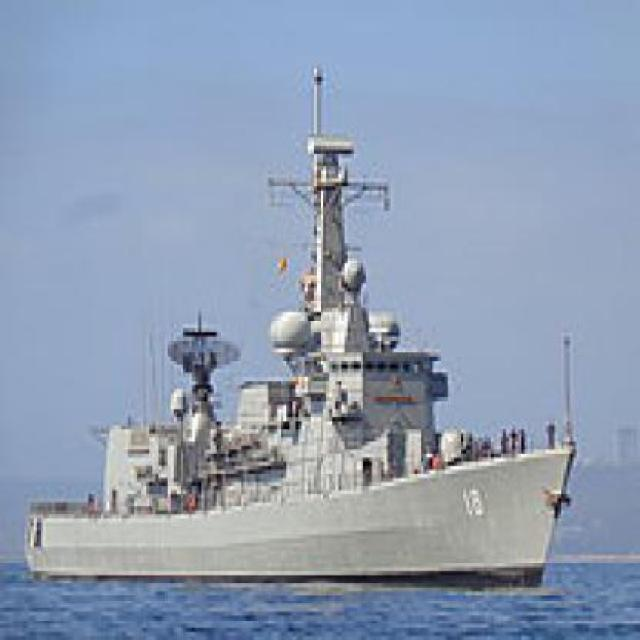warship2: (10, 54, 574, 593)
